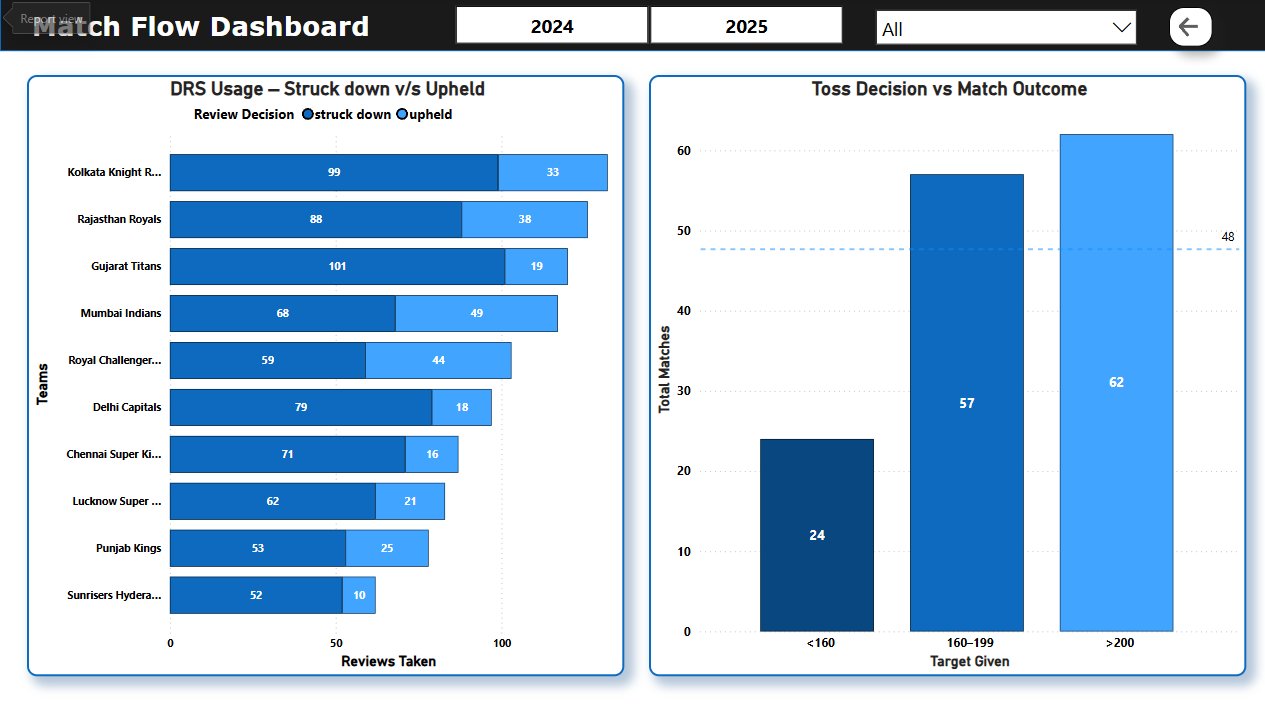

What the dashboard file says about the page in this screenshot:
{"tool":"powerbi","page":{"name":"Match Flow","canvas":[1280,720],"ordinal":3},"visuals":[{"type":"shape","box":[0,0,1280.4,53.5],"z":0},{"type":"textbox","box":[27.2,6.3,487,47.2],"z":1000},{"type":"slicer","fields":{"Values":["ipl_summary_24_25.season"]},"box":[433.4,1,440.4,52.4],"z":2000},{"type":"barChart","title":"DRS Usage – Struck down v/s Upheld","fields":{"Series":["ipl_filtered_24_25.review_decision"],"Y":["Sum(ipl_filtered_24_25.ball)"],"Category":["ipl_filtered_24_25.team_reviewed"]},"box":[27.2,78,602.1,605.7],"z":3000},{"type":"clusteredColumnChart","title":"Toss Decision vs Match Outcome","fields":{"Y":["Count(ipl_filtered_24_25.match_id)"],"Category":["ipl_filtered_24_25.target_bucket"]},"box":[653.8,78,602.1,605.7],"z":4000},{"type":"actionButton","box":[1178.2,9.1,44.3,40.3],"z":5001},{"type":"slicer","fields":{"Values":["ipl_filtered_24_25.batting_team"]},"box":[872.8,2,283.2,52.4],"z":5002}]}

Visuals, with their boxes on the page's 1280x720 design canvas (x1, y1, x2, y2). These are canvas units, not pixel positions in the 1265x712 screenshot, which may show the page scaled, cropped or inside an application window:
shape: 0:0:1280:54
textbox: 27:6:514:54
slicer - ipl_summary_24_25.season: 433:1:874:53
"DRS Usage – Struck down v/s Upheld" barChart: 27:78:629:684
"Toss Decision vs Match Outcome" clusteredColumnChart: 654:78:1256:684
actionButton: 1178:9:1222:49
slicer - ipl_filtered_24_25.batting_team: 873:2:1156:54
